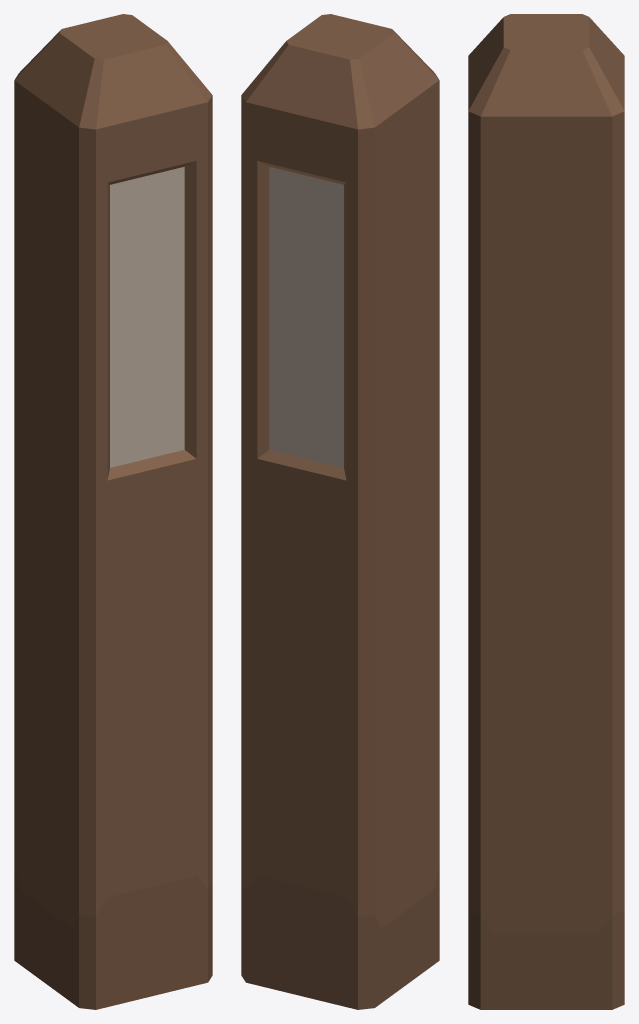
Rendered from pitch-marker-post-a87f8f.glb.
3 renders of one model, left to right at view 1: azimuth 30°, elevation 25°; view 2: azimuth 150°, elevation 25°; view 3: azimuth 270°, elevation 25°, orthographic.
Parts seen in each view (by area): view 1: pitch-marker-post-body; view 2: pitch-marker-post-body; view 3: pitch-marker-post-body.
Boxes of the visible parts, x1,y1,x2,y2 form: pitch-marker-post-body: (14,14,212,1009); pitch-marker-post-body: (241,14,439,1009); pitch-marker-post-body: (468,14,624,1009).
Size of the model in its own units: 0.15 by 1 by 0.15.
